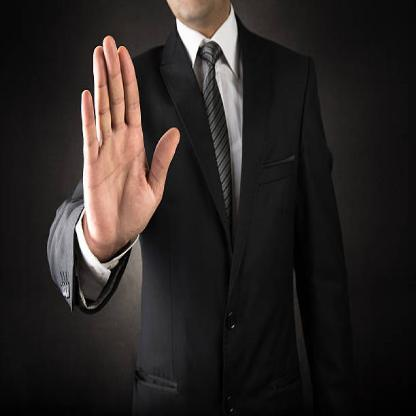stop: (79, 31, 181, 250)
